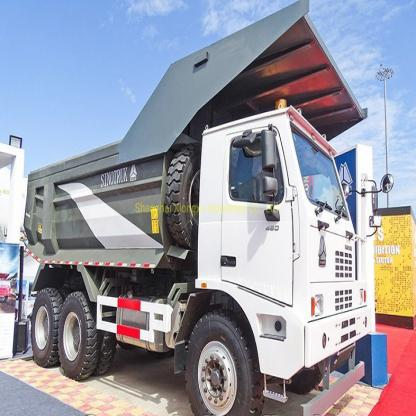dump_truck: (22, 30, 377, 415)
